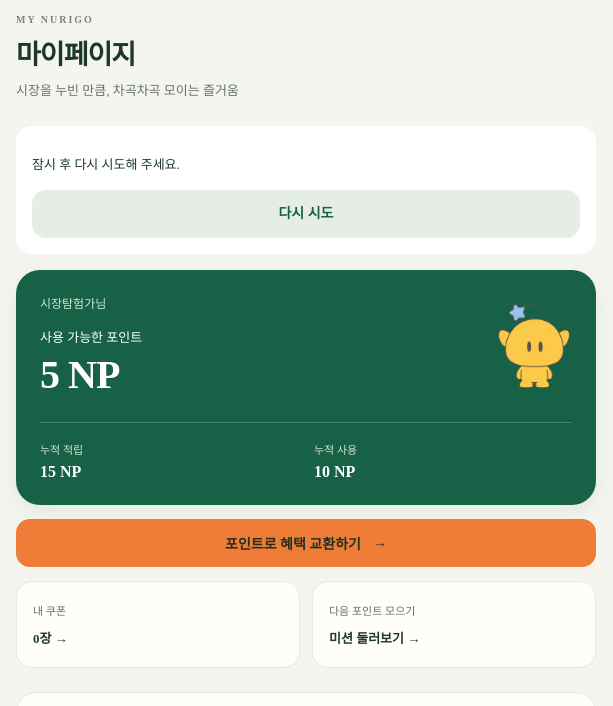
Test case: 화면을 다시 표시하면 최신 잔액을 조회하고 실패해도 기존 내역을 보존한다
Check: the text "시장탐험가님" is shown, box [40,297,106,311]
Check: the message shows "잠시 후", box [32,157,180,172]
Click the button "다시 시도" at (306, 214), box [32,190,580,238]
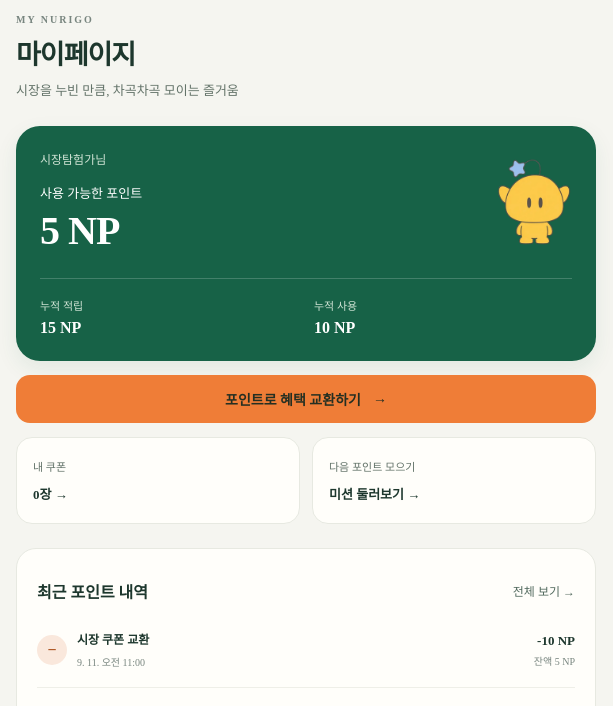
Check: the message "잠시 후 다시 시도해 주세요. 다시 시도" is gone
